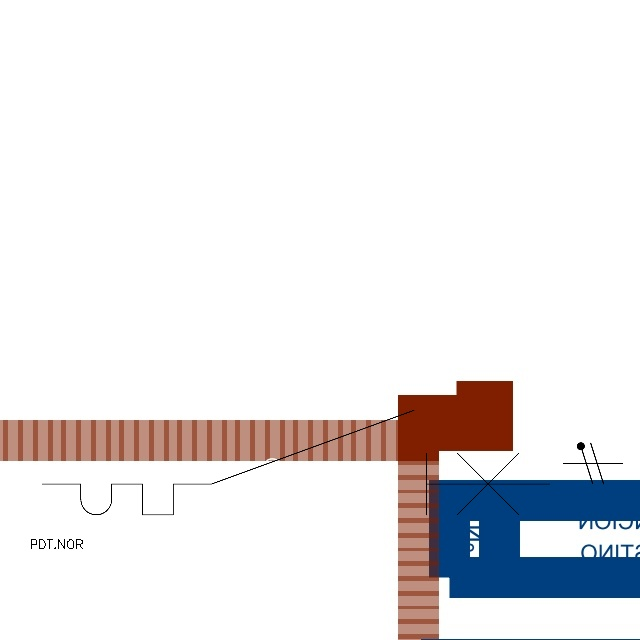interruptor_termomagnetico: (29, 397, 563, 528)
